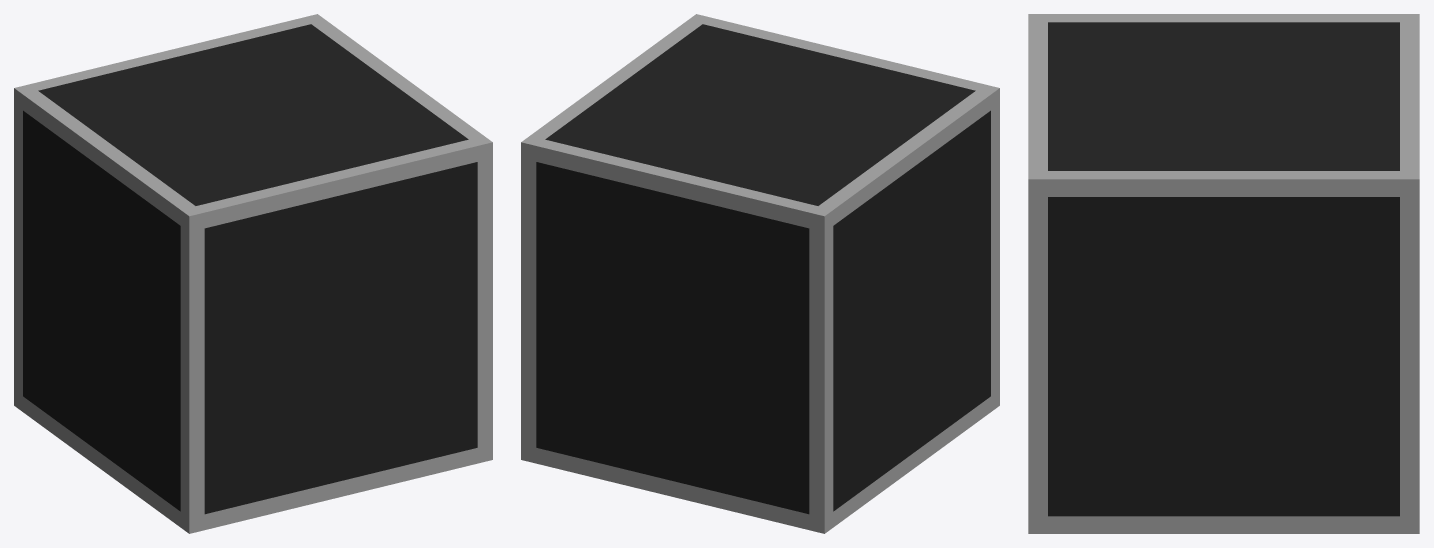
Rendered from cubo con vordes.obj.
The picture shows the model from 3 angles, left to right: view 1: azimuth 30°, elevation 25°; view 2: azimuth 150°, elevation 25°; view 3: azimuth 270°, elevation 25°; orthographic projection. The views are drawn at different scales.
Bounding box in the file's own units: 4 × 4 × 4.
1 material, 1 textured.
